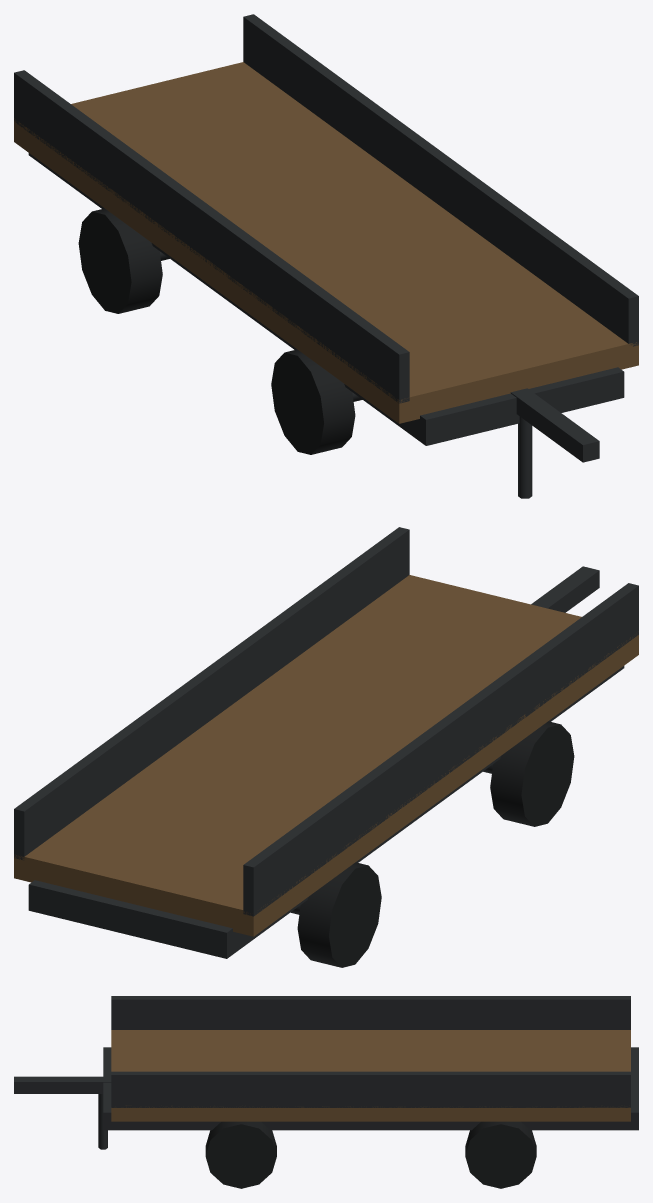
File: trailer_flatbed.glb
The picture shows the model from 3 angles, top to bottom: view 1: azimuth 30°, elevation 25°; view 2: azimuth 150°, elevation 25°; view 3: azimuth 270°, elevation 25°; orthographic projection. The views are drawn at different scales.
Parts seen in each view (by area): view 1: TrailerFlatbed; view 2: TrailerFlatbed; view 3: TrailerFlatbed.
Part boxes in pixels (x1,y1,x2,y2): TrailerFlatbed: (14, 14, 638, 498); TrailerFlatbed: (14, 527, 638, 967); TrailerFlatbed: (14, 996, 638, 1188).
Size of the model in its own units: 2.4 by 1.52 by 7.7.
